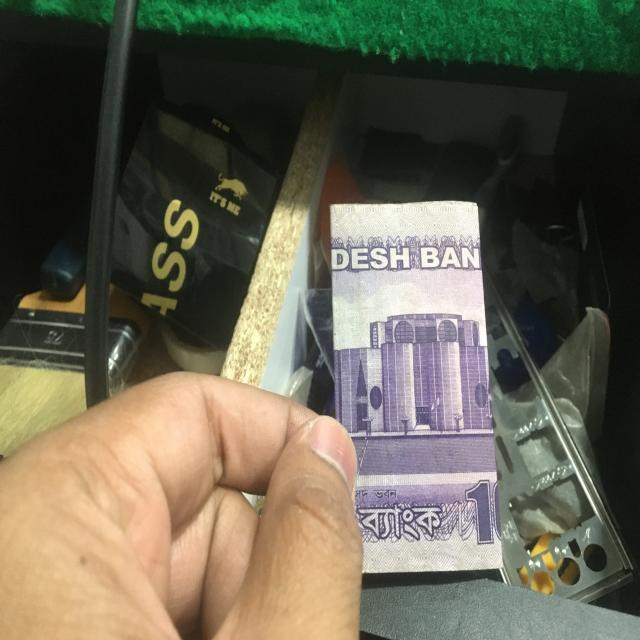Taka: (332, 200, 501, 575)
